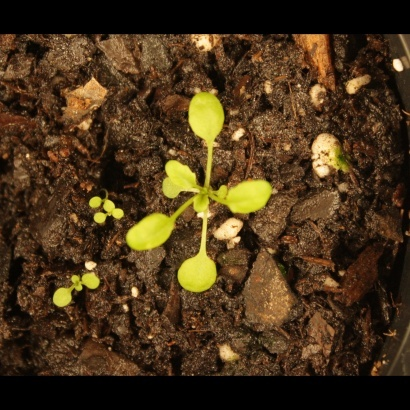leaf: (183, 86, 235, 141), (177, 248, 224, 297), (126, 211, 176, 253), (227, 178, 282, 216), (160, 154, 202, 190), (153, 174, 191, 205), (47, 288, 75, 315), (209, 179, 234, 207), (78, 269, 105, 294), (84, 190, 107, 213), (86, 212, 109, 235), (113, 205, 136, 228), (101, 190, 124, 213)
